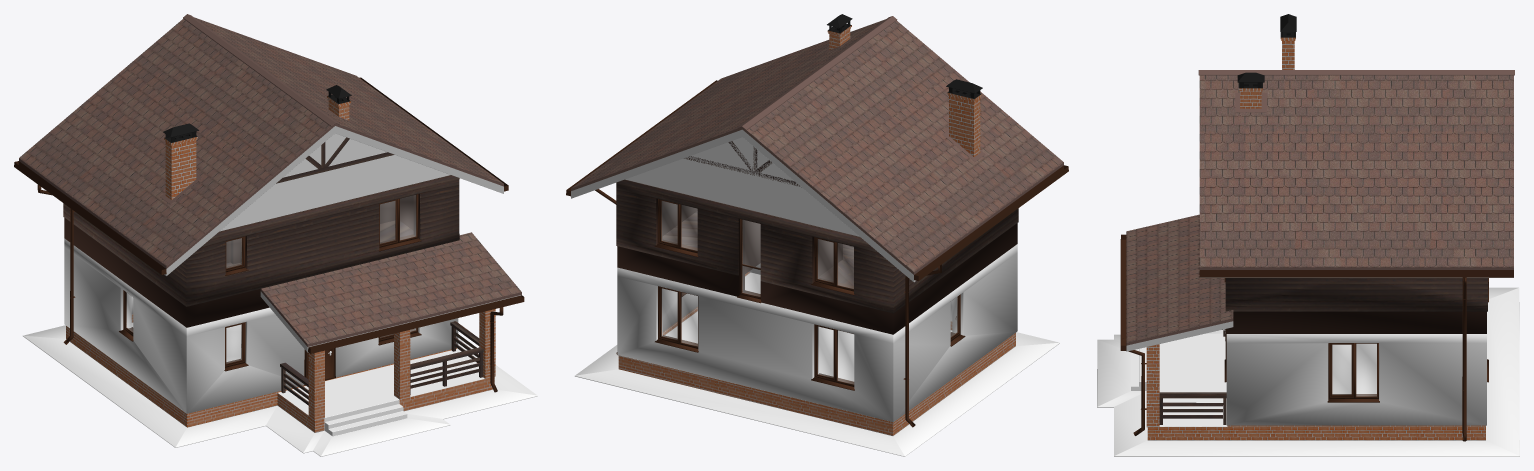
The model's file is house1.glb.
3 views of the same model, side by side, from view 1: azimuth 30°, elevation 25°; view 2: azimuth 150°, elevation 25°; view 3: azimuth 270°, elevation 25° (orthographic). The views are drawn at different scales.
Parts seen in each view (by area): view 1: Krov, house 1, 2et, 1et, Cher, okn_dver, Vent, peril; view 2: Krov, 1et, 2et, house 1, okn_dver, Cher, Vent; view 3: Krov, house 1, 1et, 2et, okn_dver, Vent, peril.
Boxes of the visible parts, x1,y1,x2,y2 form: Krov: (14,14,524,392); house 1: (23,309,537,456); 2et: (63,175,459,327); 1et: (64,238,458,413); Cher: (219,133,450,231); okn_dver: (119,194,421,385); Vent: (163,85,351,199); peril: (280,321,483,405); Krov: (566,16,1068,427); 1et: (617,244,1017,422); 2et: (616,179,1018,334); house 1: (574,272,1059,456); okn_dver: (654,199,965,390); Cher: (625,137,859,236); Vent: (827,14,982,156); Krov: (1120,70,1514,441); house 1: (1097,287,1519,456); 1et: (1226,334,1486,425); 2et: (1225,278,1487,333); okn_dver: (1223,278,1488,402); Vent: (1237,14,1296,108); peril: (1159,329,1226,424).
Bounding box in the file's own units: 12.64 × 10.28 × 12.52.
Materials: 11 (3 with a texture image).
